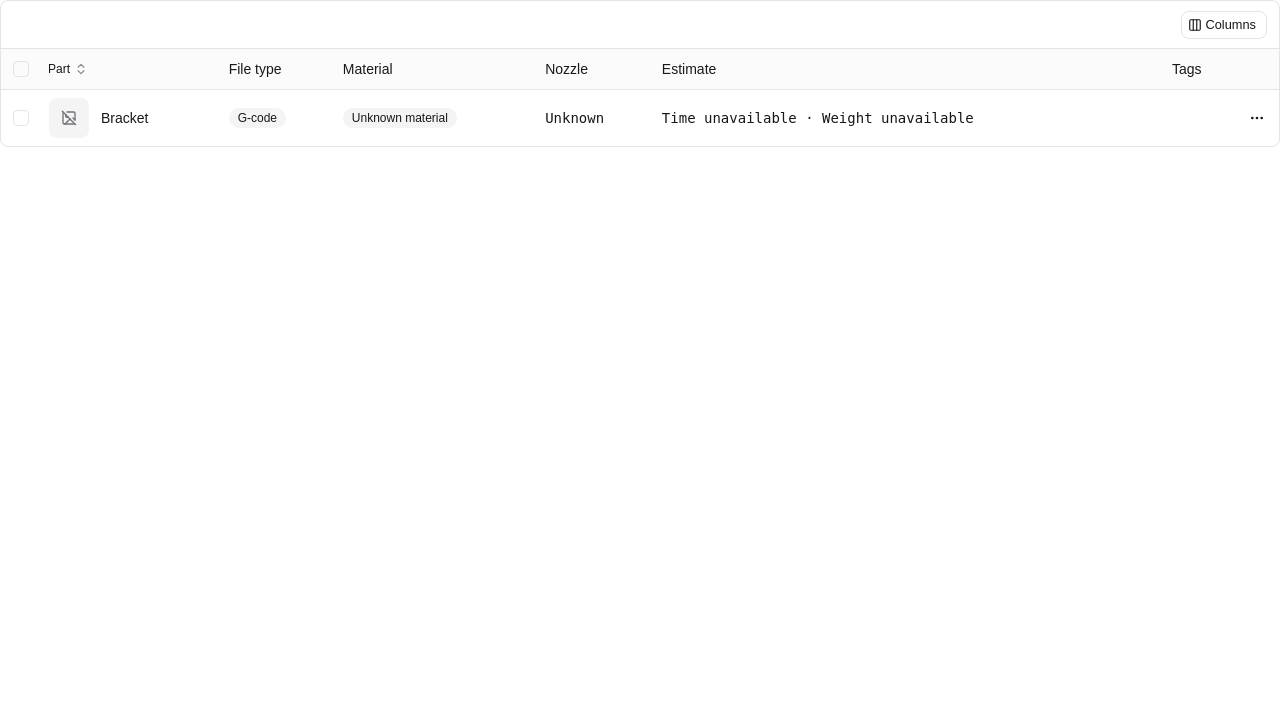
it: PartsTable queue action › rechecks requirements after opening a stale table row
This screenshot has width=1280, height=720.
Click the button named "Actions for Bracket".
click(1257, 118)  # box [1243,104,1271,132]
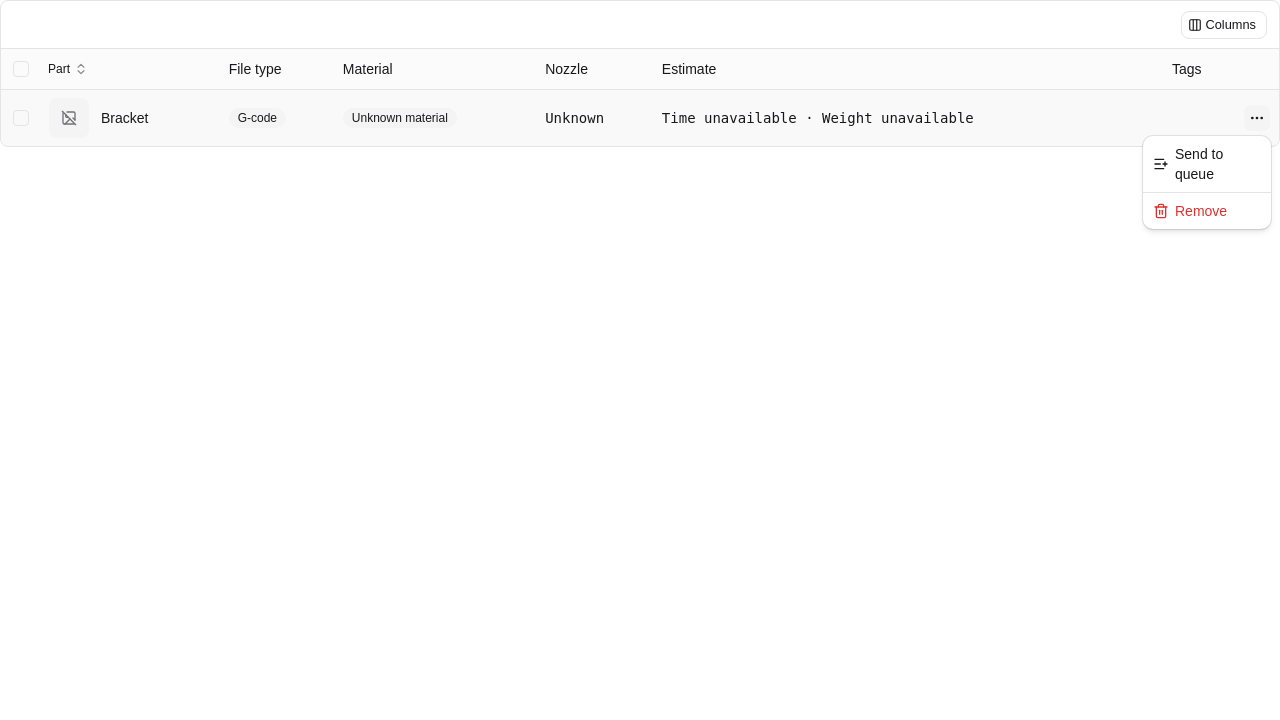
Click the menu item "Send to queue".
click(1188, 164)  # box [1153,146,1223,182]
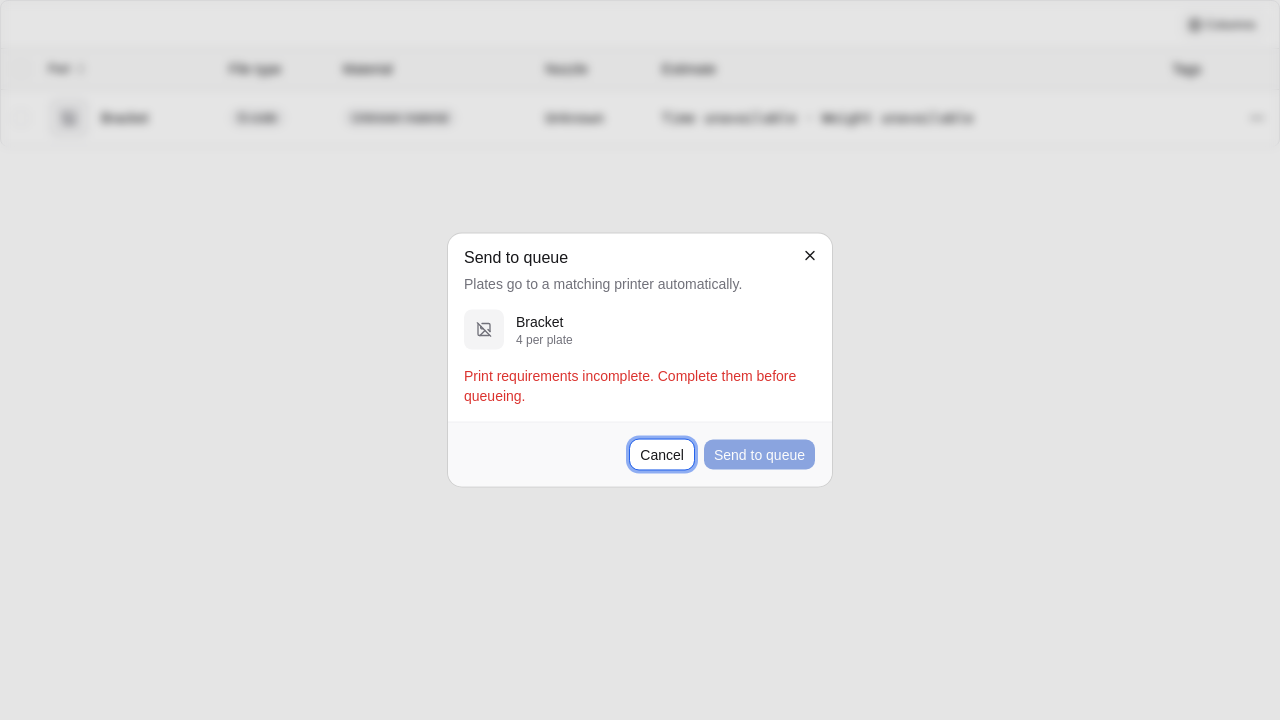
expect the message reads "Print requirements incomplete. Complete them before queueing.": met, box [464,368,796,404]
